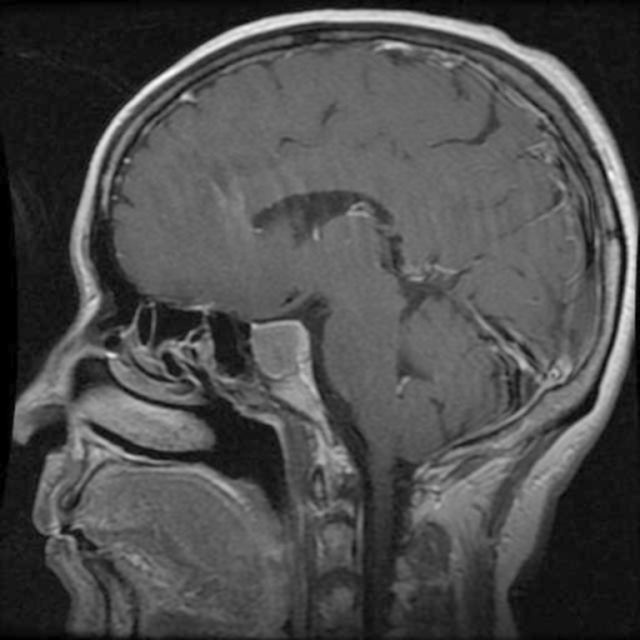no tumor: (251, 315, 315, 375)
